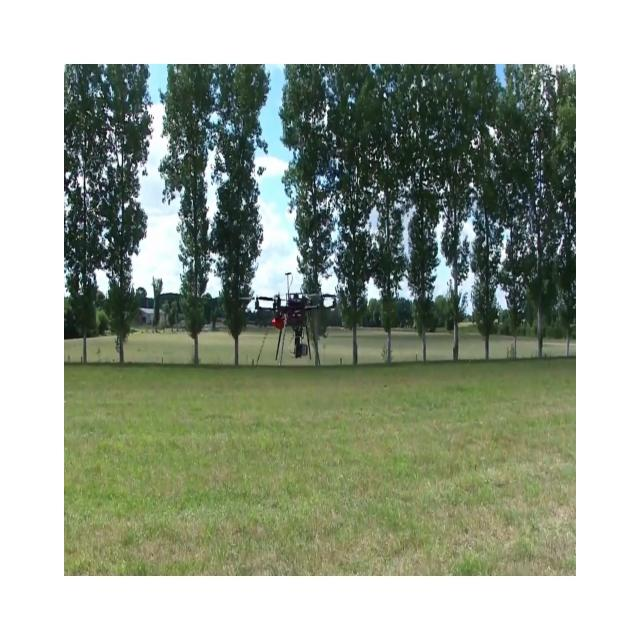drone: (246, 271, 337, 365)
